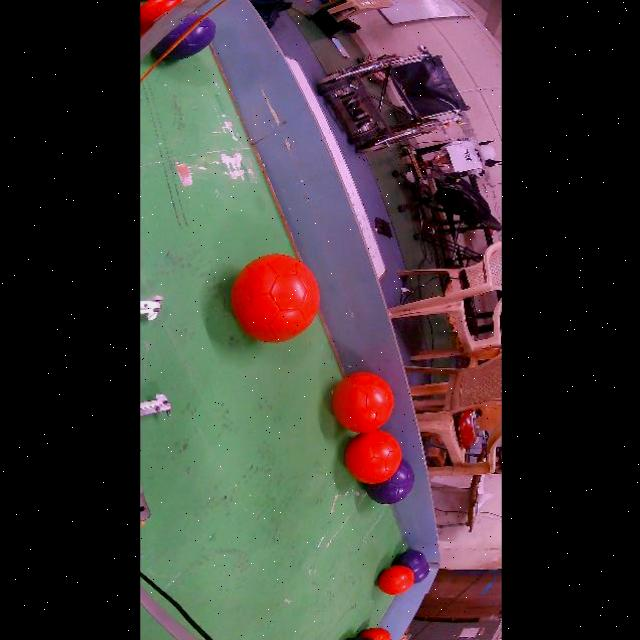P: (150, 14, 214, 60), (362, 459, 413, 504), (391, 550, 429, 584)
R: (230, 254, 318, 342), (331, 372, 392, 433), (343, 430, 400, 483), (376, 566, 413, 595), (357, 628, 390, 640)
